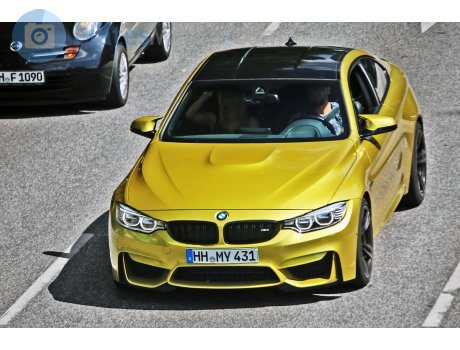License Plates: (192, 247, 255, 261)
